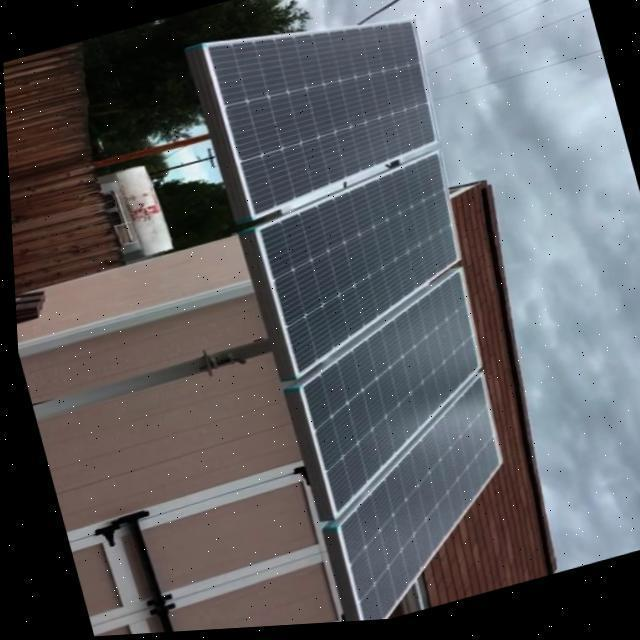Normal Solar Panel: (259, 270, 508, 526), (285, 376, 530, 628), (181, 0, 449, 228), (228, 152, 484, 386)
